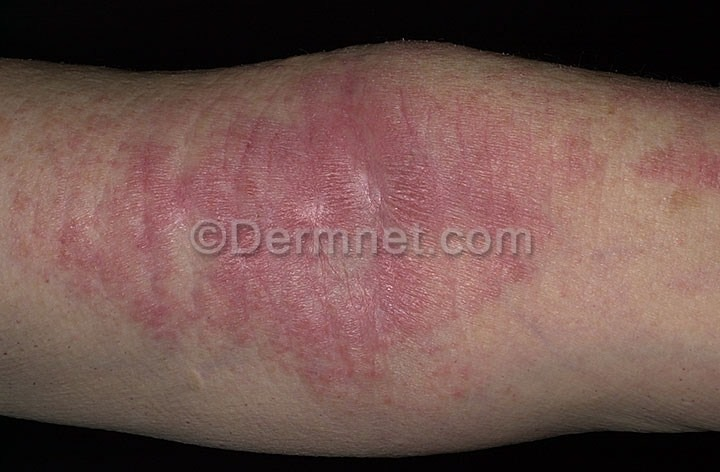Eczema: (5, 70, 720, 407)
